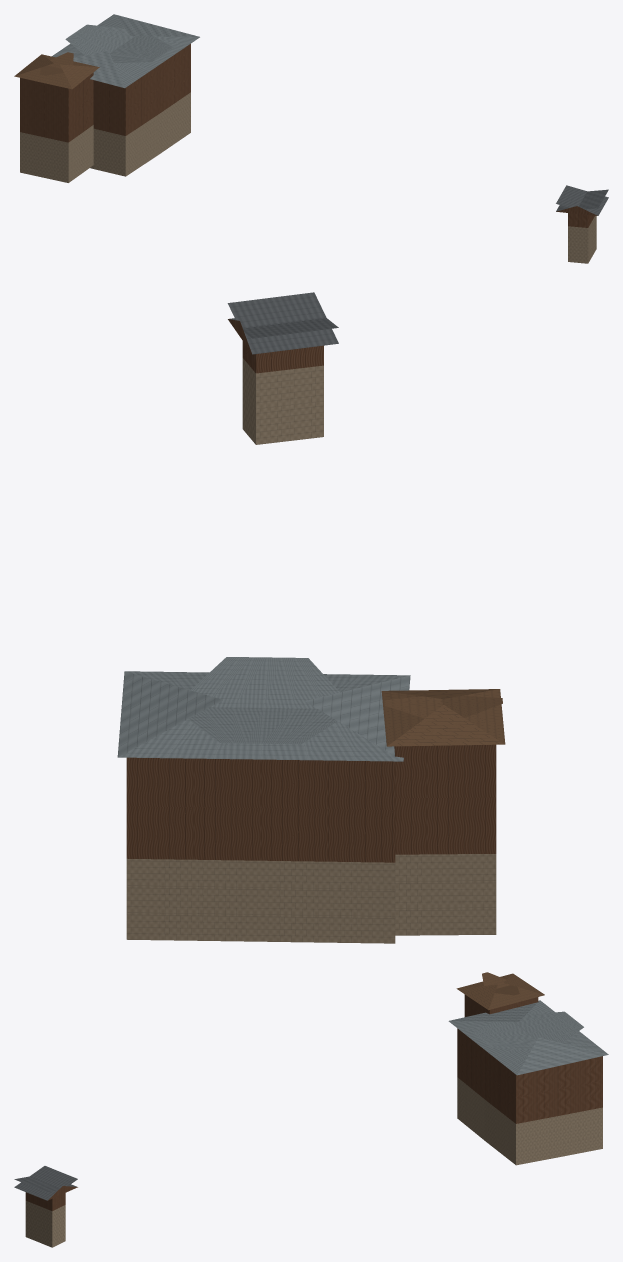
Rendered from bld_c44_33_253.gltf.
3 views of the same model, one above another, from view 1: azimuth 30°, elevation 25°; view 2: azimuth 150°, elevation 25°; view 3: azimuth 270°, elevation 25° (orthographic). The views are drawn at different scales.
Parts seen in each view (by area): view 1: bld_c44_33_253; view 2: bld_c44_33_253; view 3: bld_c44_33_253.
Boxes of the visible parts, x1,y1,x2,y2 form: bld_c44_33_253: (14, 14, 608, 263); bld_c44_33_253: (117, 292, 505, 943); bld_c44_33_253: (14, 972, 608, 1247).
Bounding box in the file's own units: 48.35 × 13.7 × 66.51.
Materials: 6 (6 with a texture image).
